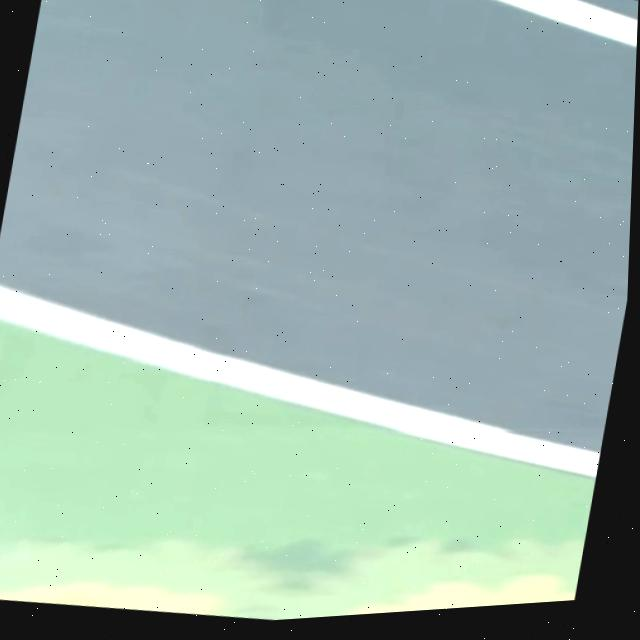center: (499, 0, 638, 45)
right: (0, 283, 601, 476)
